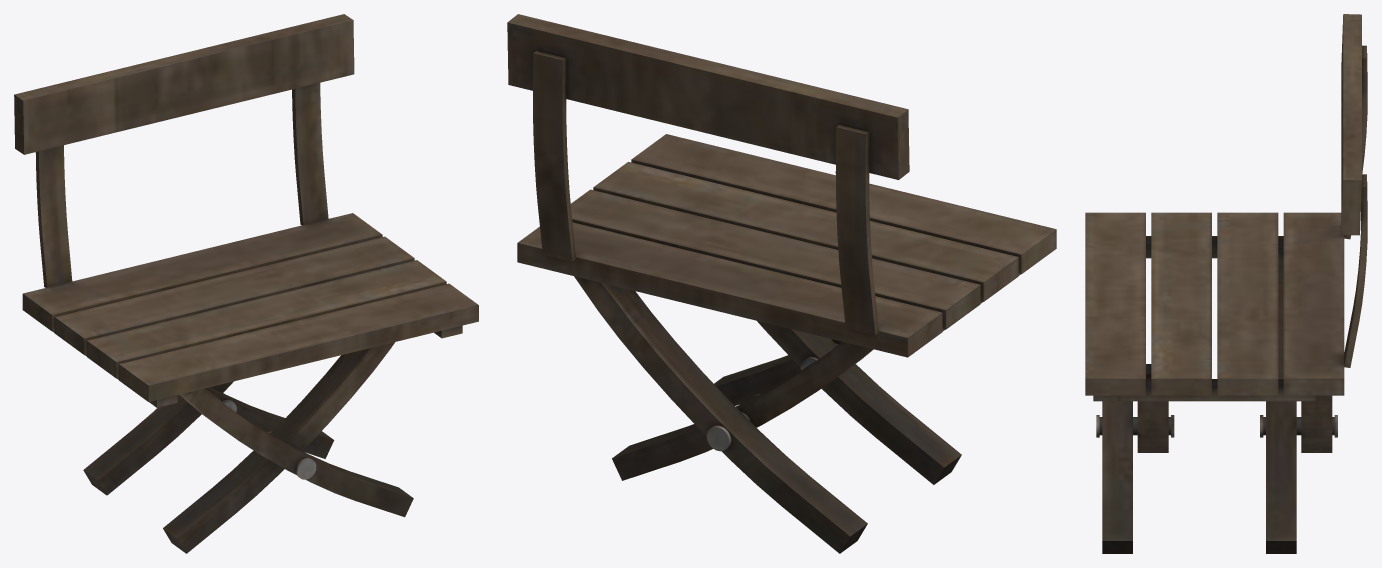
Rendered from SM_chair.glb.
The picture shows the model from 3 angles, left to right: view 1: azimuth 30°, elevation 25°; view 2: azimuth 150°, elevation 25°; view 3: azimuth 270°, elevation 25°; orthographic projection. The views are drawn at different scales.
Parts seen in each view (by area): view 1: SM_chair; view 2: SM_chair; view 3: SM_chair.
Boxes of the visible parts, left/top/right/bottom form: SM_chair: left=14, top=14, right=478, bottom=553; SM_chair: left=507, top=14, right=1056, bottom=553; SM_chair: left=1085, top=14, right=1367, bottom=553.
Bounding box in the file's own units: 0.8135 × 0.9312 × 0.5855.
1 material, 1 textured.
